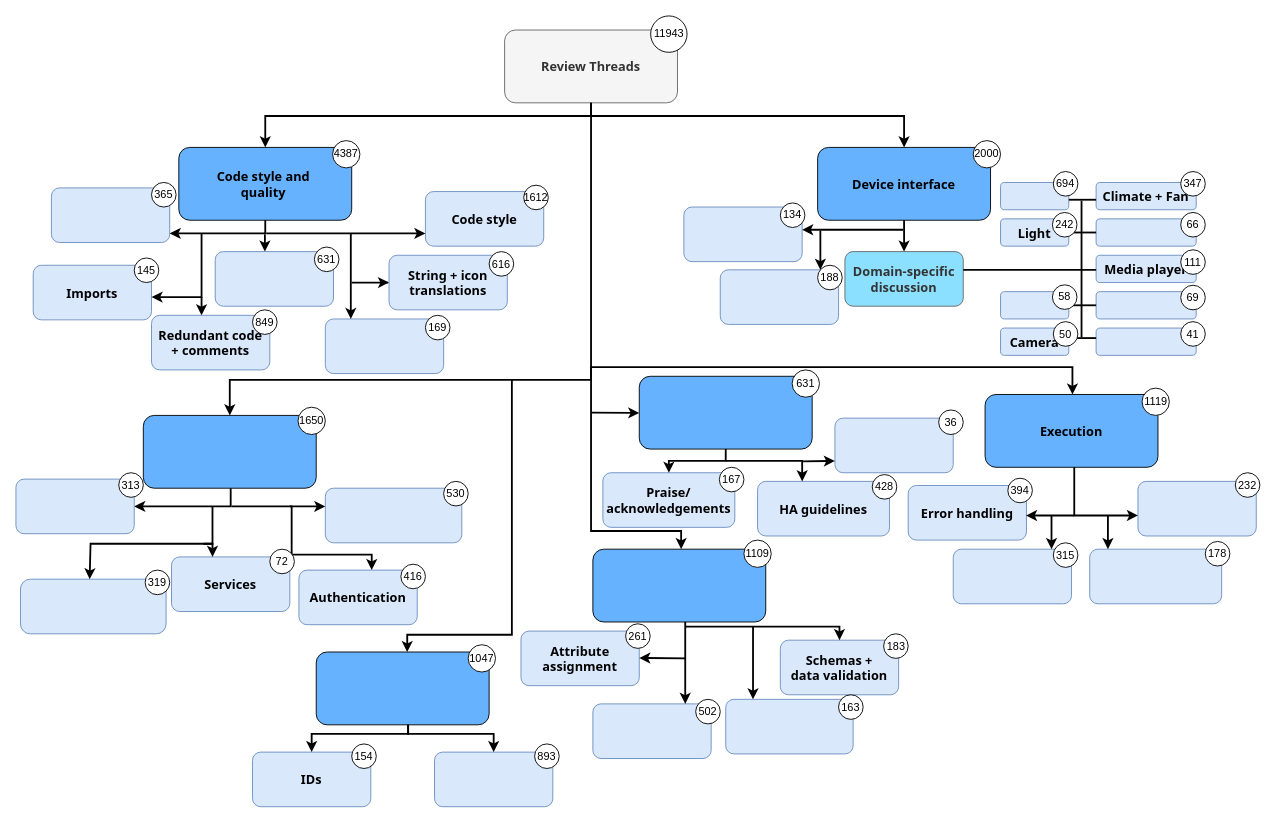
The diagram is 1276 pixels wide and 823 high, and some of its shapes have lost their labels. The box of each missing label's shape, as (x1, y1, x2, y2) in pixels:
Async functionality + event loop: (20, 578, 166, 634)
Button: (1000, 291, 1069, 319)
Classes and inheritance: (324, 318, 444, 374)
Communication protocols: (15, 478, 134, 534)
Configuration: (315, 651, 489, 725)
Configuration entries: (434, 751, 553, 807)
Data coordinators: (324, 487, 462, 543)
Data management: (592, 548, 766, 622)
Device library: (683, 206, 802, 262)
Devices: (719, 269, 839, 324)
Dictionary operations: (592, 703, 711, 758)
Humidifier: (1095, 327, 1196, 355)
Initialization: (142, 415, 316, 488)
Lock + Alarm: (1095, 218, 1196, 246)
Logging: (1137, 480, 1256, 536)
Measurement and units: (725, 698, 853, 754)
Notification: (1095, 291, 1196, 319)
PR process: (638, 375, 812, 449)
Questions: (834, 417, 953, 473)
Sensor: (1000, 182, 1069, 210)
State management: (952, 548, 1072, 604)
Testing: (214, 251, 334, 306)
Timing/ timezones: (1089, 548, 1222, 604)
Typing and casting: (51, 187, 170, 243)
